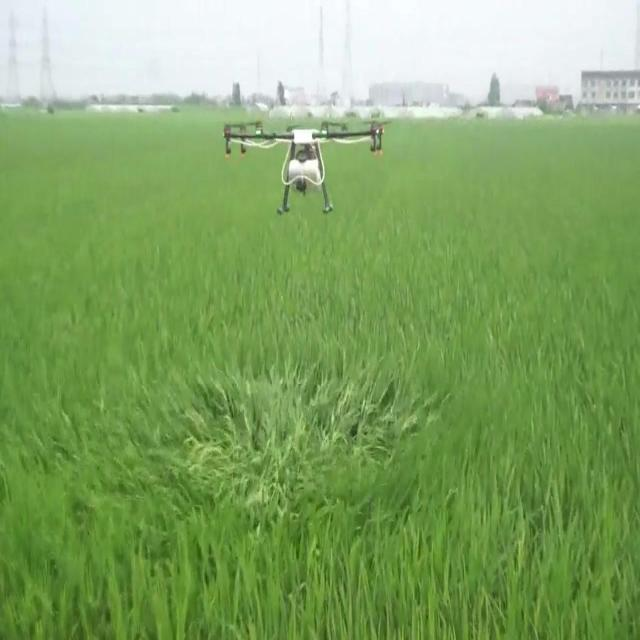drone: (221, 113, 390, 219)
